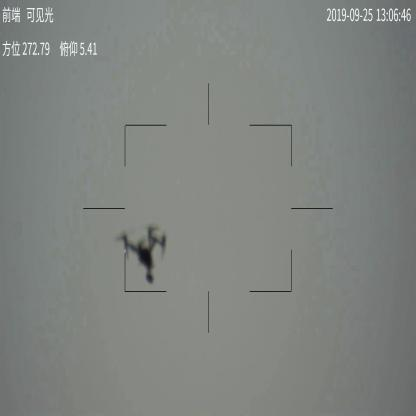uav: (109, 224, 165, 282)
